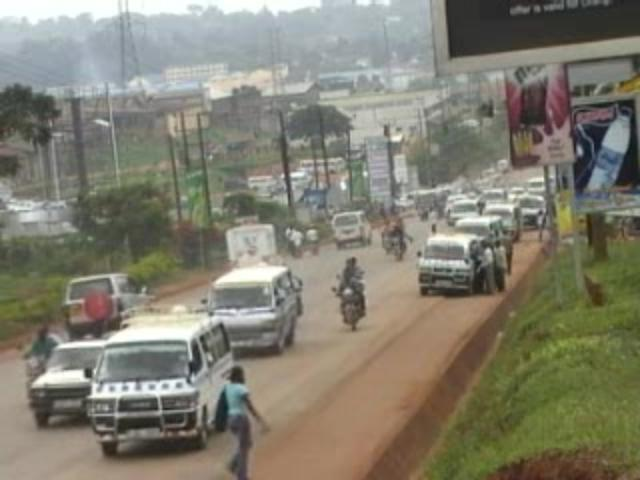car: (27, 343, 92, 422), (62, 268, 158, 315)
motorcycle: (338, 256, 370, 334), (24, 321, 55, 380), (395, 226, 408, 261)
van: (86, 307, 224, 455), (210, 264, 296, 355), (416, 233, 478, 296), (332, 209, 373, 251)
